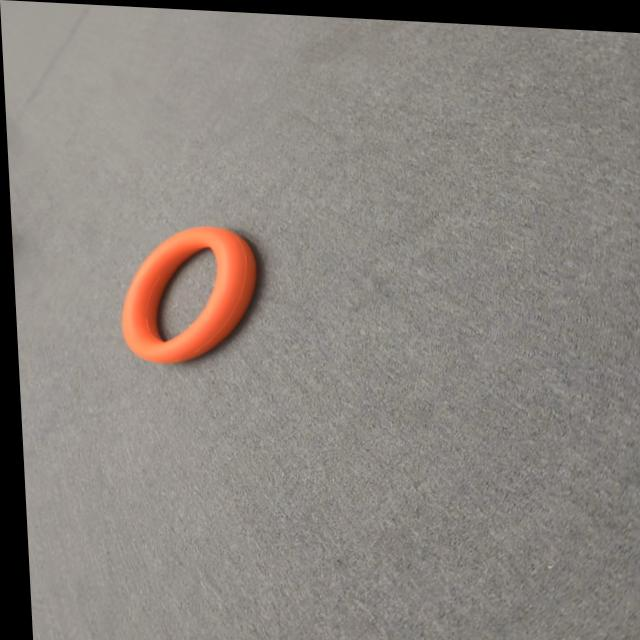note: (114, 220, 258, 366)
